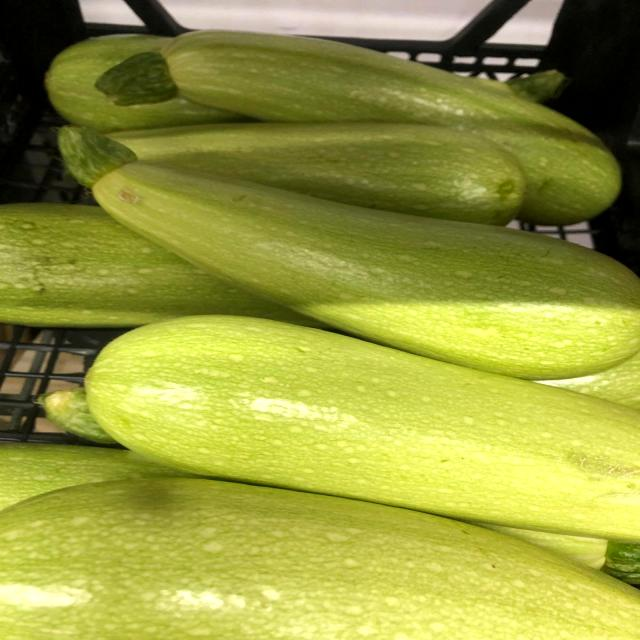zucchini: (46, 114, 640, 380), (76, 300, 640, 541), (96, 25, 631, 222)
